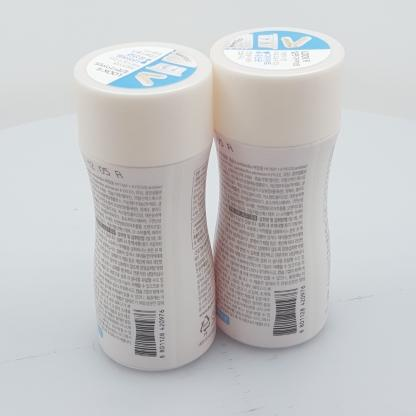------LOOK------170ML: (73, 41, 216, 371), (209, 27, 345, 348)
